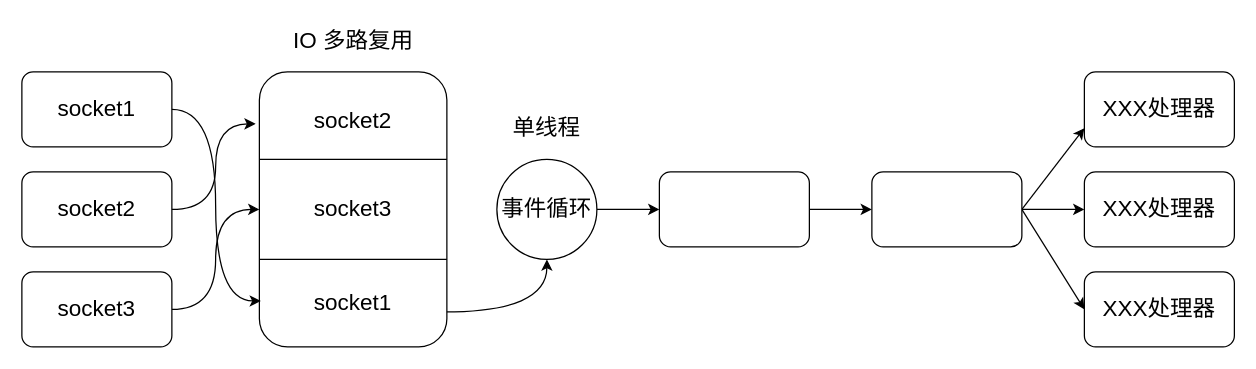
Image size: 1256x369. Some labels were removed from this diagram. The shapes that lost their labels are listed below. From the top down, each one's centre as x and y in pixels, then its label:
[733,209]: 队列
[946,209]: 文件事件 分派器
